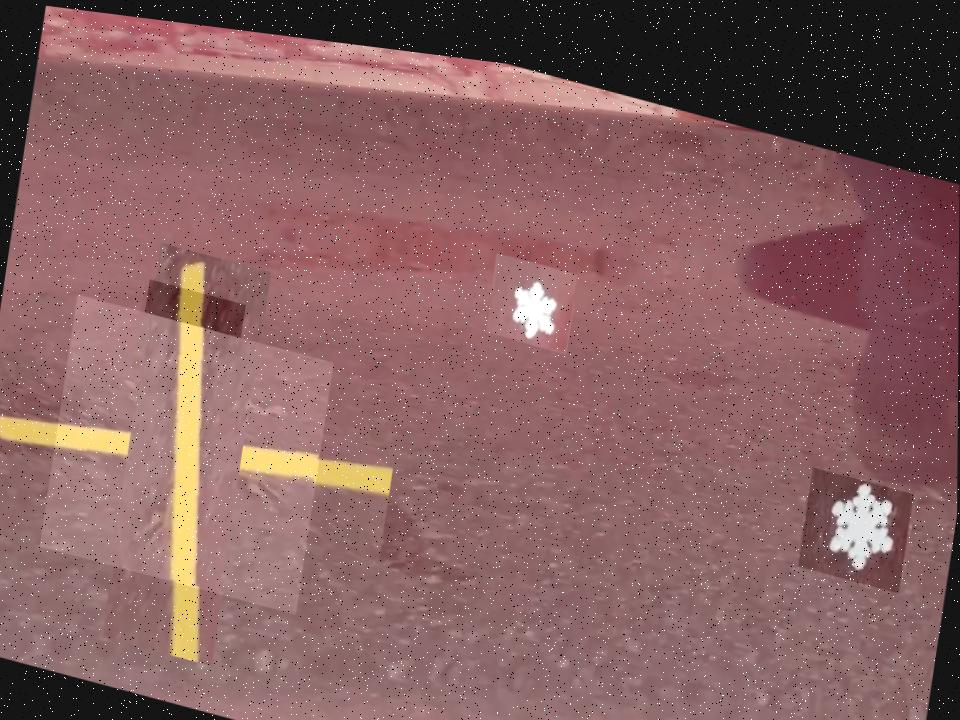dent: (799, 445, 915, 571), (136, 275, 246, 396), (486, 240, 579, 342)
scratch: (41, 289, 334, 610)
